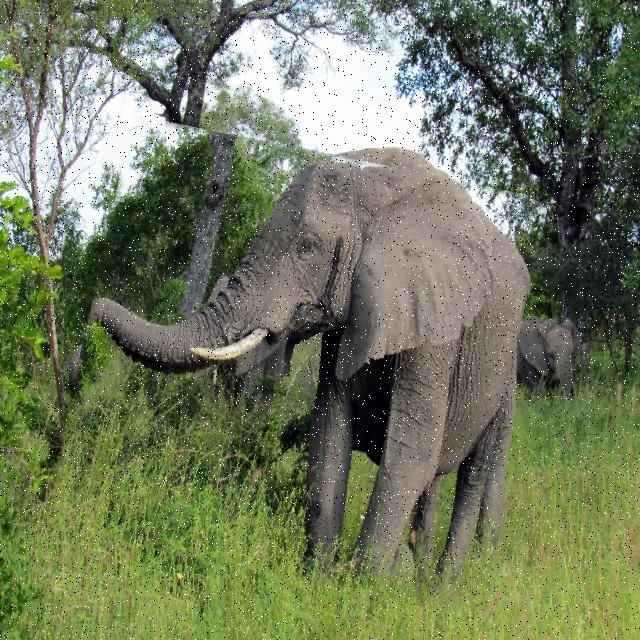elephant: (64, 134, 529, 596)
